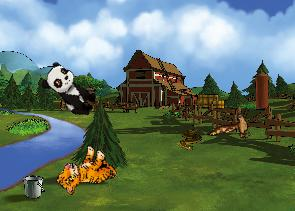eagle: (206, 97, 263, 156)
panda: (37, 59, 103, 121)
tiger: (52, 138, 121, 208)
